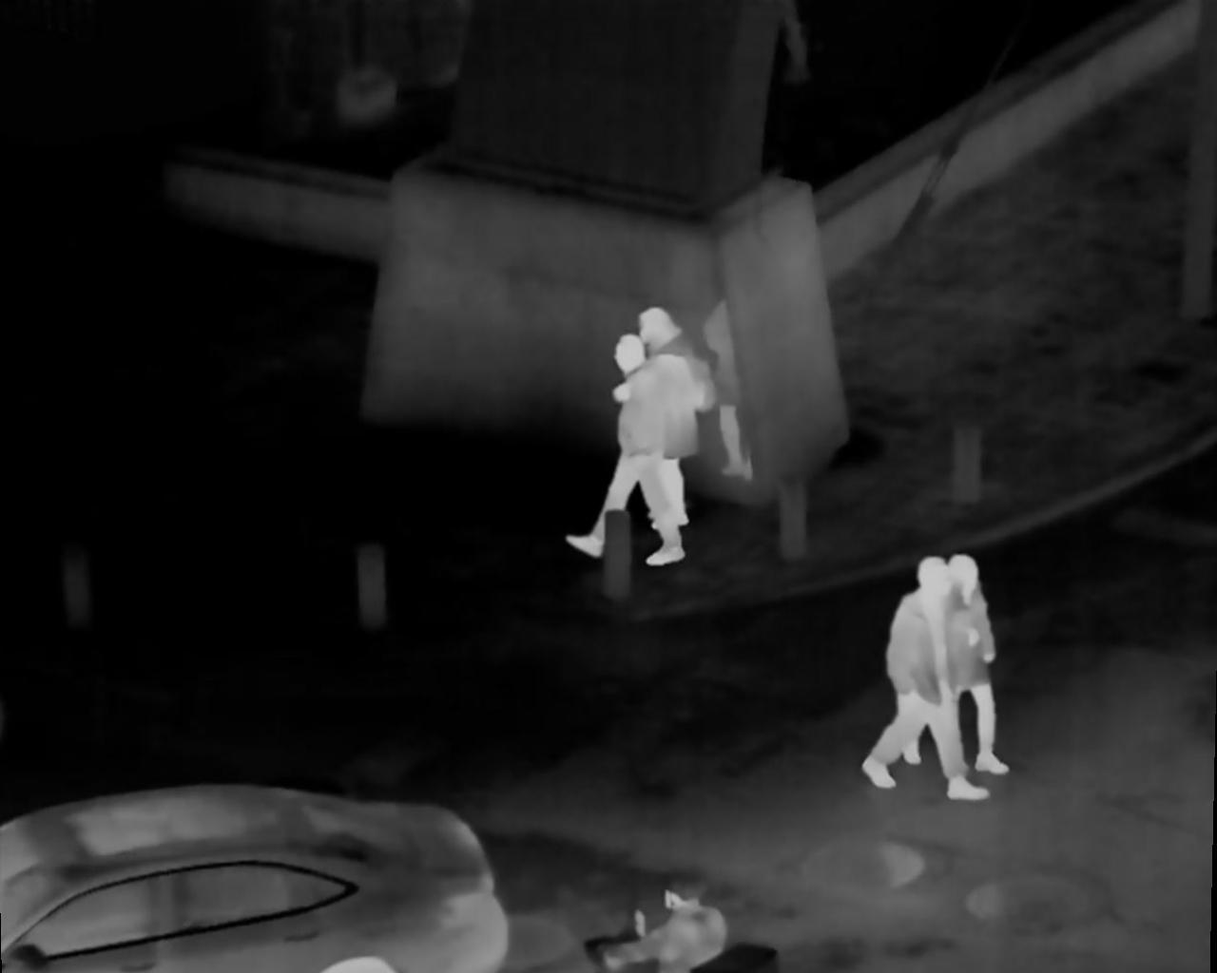person: (870, 562, 965, 812), (576, 342, 678, 566), (941, 546, 1016, 763), (635, 307, 705, 526), (639, 868, 723, 969)
